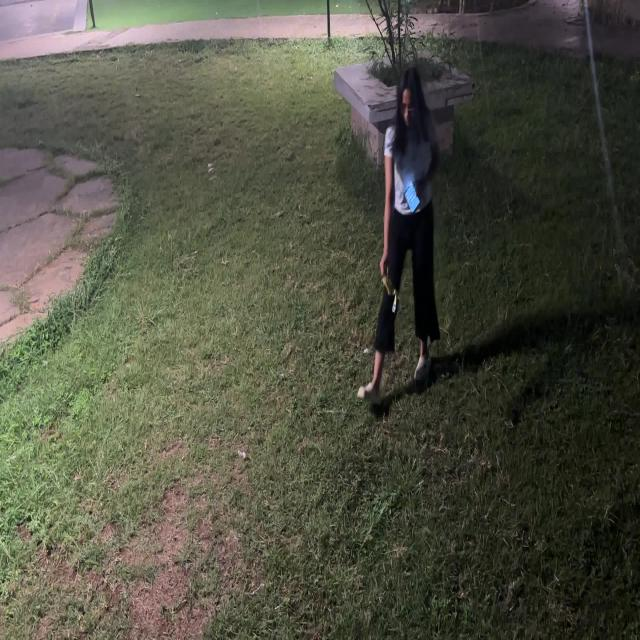human: (356, 63, 448, 406)
trash: (379, 276, 403, 323)
